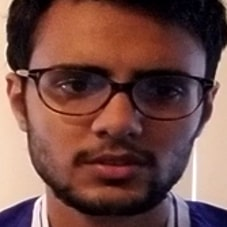awake: (50, 59, 196, 188)
